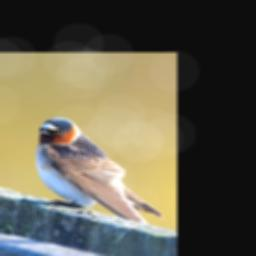Swallow: (34, 117, 164, 228)
